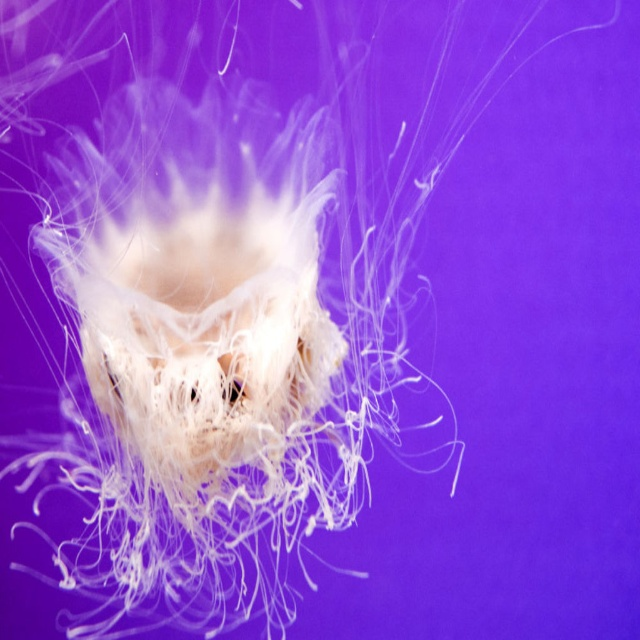Jellyfish: (0, 0, 620, 639)
